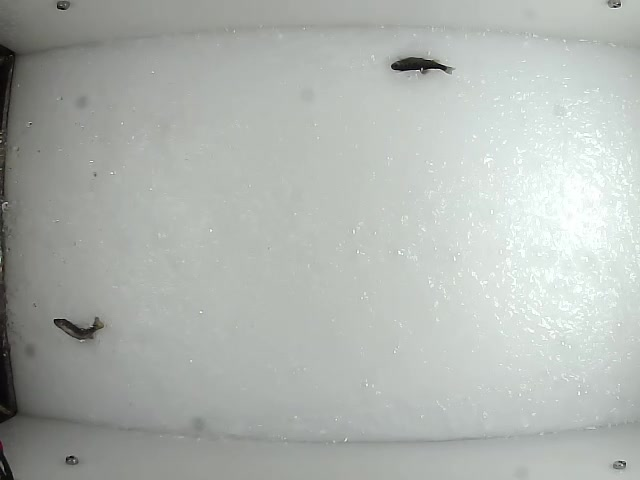fish: (51, 310, 106, 343), (389, 54, 457, 78)
